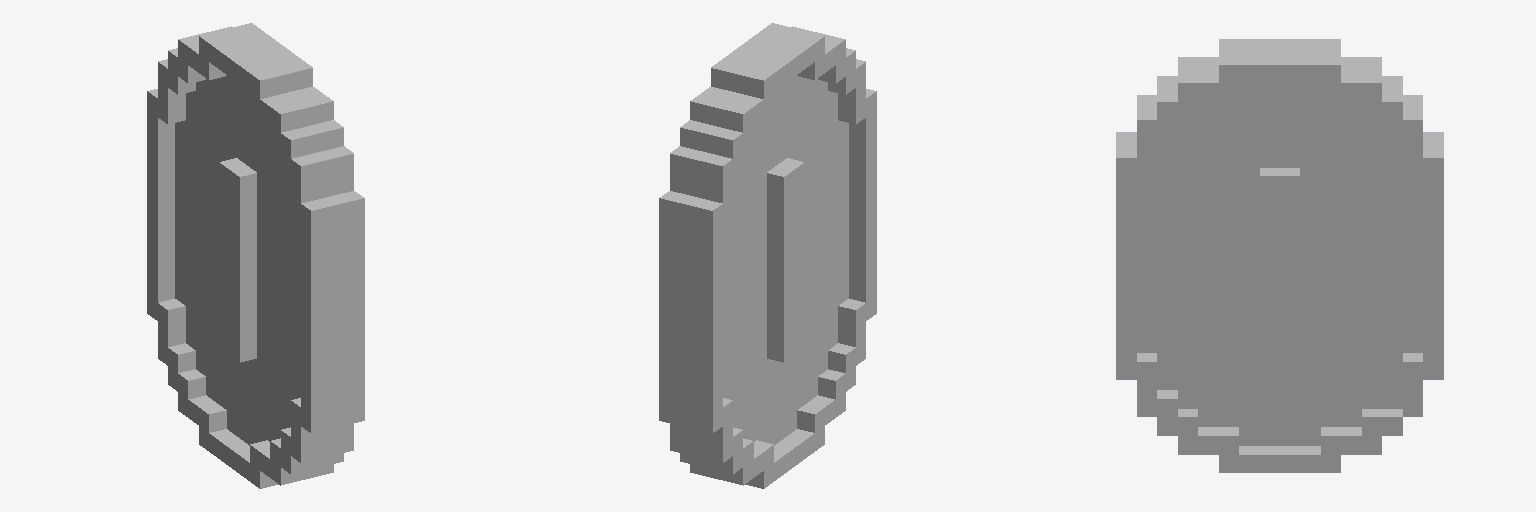
The model's file is coin.obj.
3 views of the same model, side by side, from view 1: azimuth 30°, elevation 25°; view 2: azimuth 150°, elevation 25°; view 3: azimuth 270°, elevation 25° (orthographic).
Visible parts, largest first — view 1: object 1; view 2: object 1; view 3: object 1.
Boxes of the visible parts, x1=… form: object 1: x1=147, y1=23, x2=364, y2=488; object 1: x1=659, y1=23, x2=876, y2=488; object 1: x1=1116, y1=39, x2=1443, y2=472.
Size of the model in its own units: 0.3 by 2.2 by 1.6.